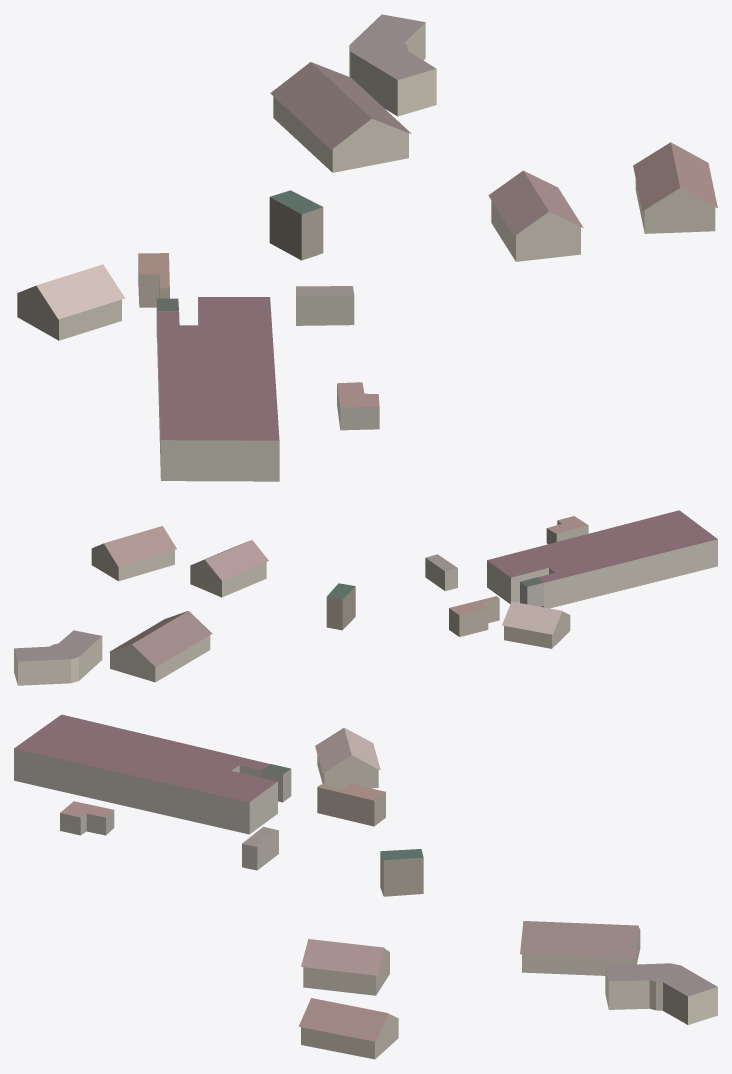
3 views of the same model, one above another, from view 1: azimuth 30°, elevation 25°; view 2: azimuth 150°, elevation 25°; view 3: azimuth 270°, elevation 25° (orthographic). The views are drawn at different scales.
Parts seen in each view (by area): view 1: tuile; view 2: tuile; view 3: tuile.
Boxes of the visible parts, x1,y1,x2,y2 form: tuile: (17, 14, 717, 481); tuile: (14, 510, 717, 685); tuile: (14, 714, 717, 1059).
Bounding box in the file's own units: 123 × 13.32 × 127.
